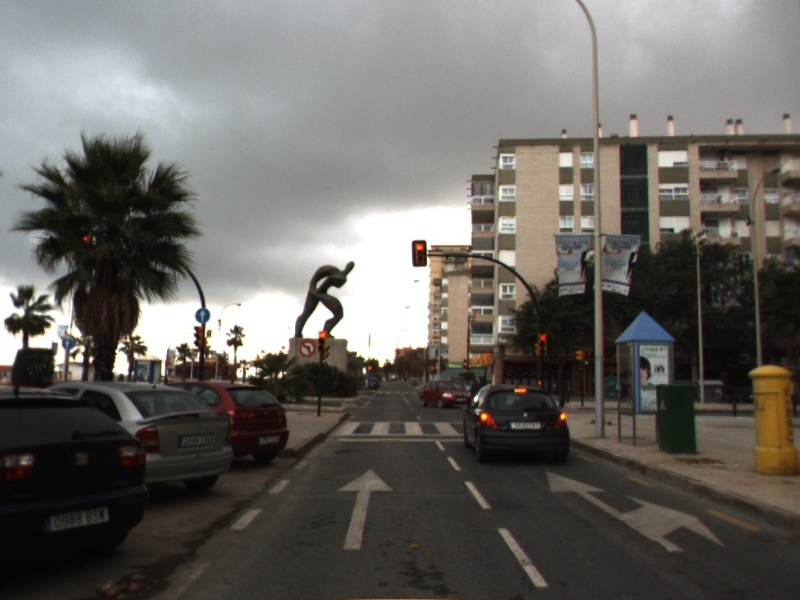STRAIGHT: (335, 467, 395, 551)
STRAIGHT_RIGHT: (544, 468, 727, 553)
